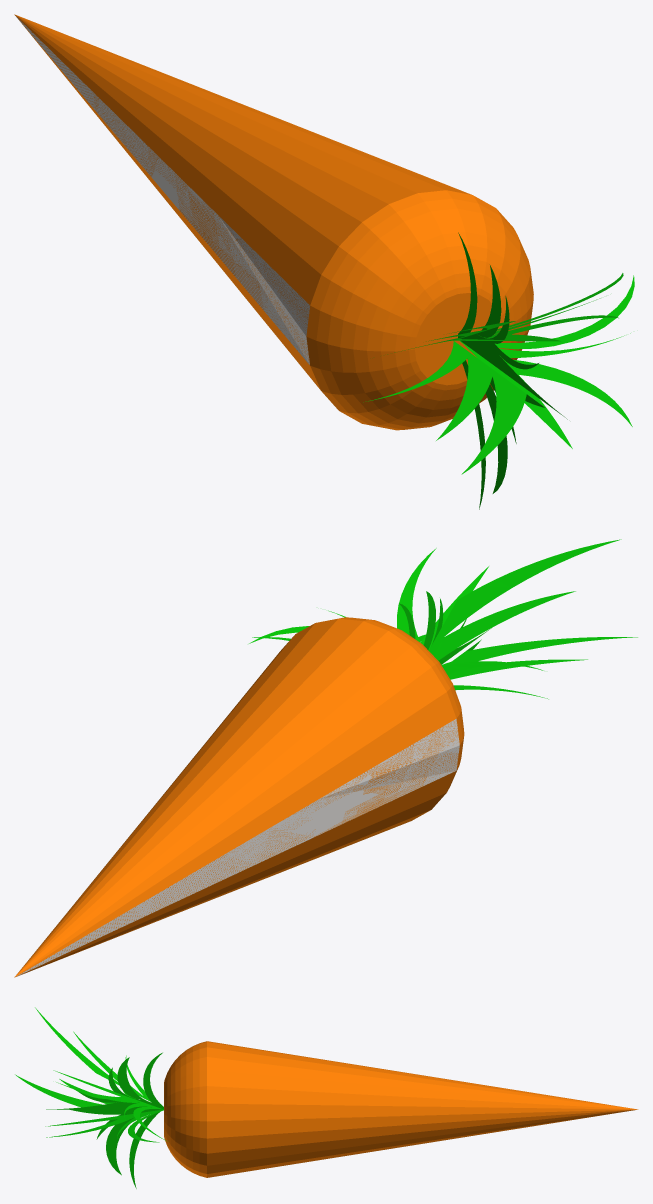
The picture shows the model from 3 angles, top to bottom: view 1: azimuth 30°, elevation 25°; view 2: azimuth 150°, elevation 25°; view 3: azimuth 270°, elevation 25°; orthographic projection. The views are drawn at different scales.
Visible parts, largest first — view 1: carrot; view 2: carrot; view 3: carrot.
Boxes of the visible parts, x1,y1,x2,y2 form: carrot: (14,14,634,509); carrot: (14,539,637,977); carrot: (15,1007,638,1188).
Bounding box in the file's own units: 4.17 × 3.56 × 13.53.
